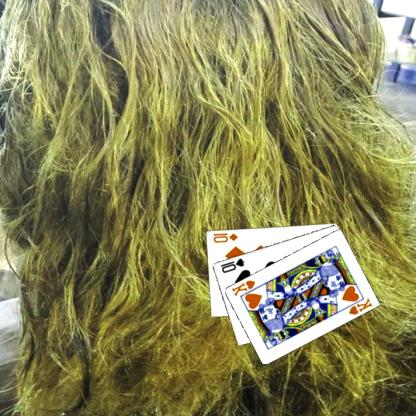10D: (212, 230, 240, 244)
10S: (219, 256, 247, 274)
KH: (231, 278, 258, 298), (348, 296, 375, 316)
